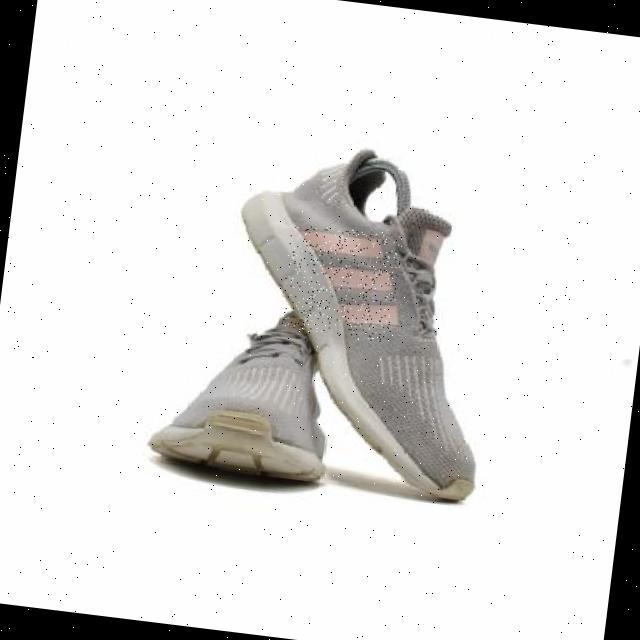Adidas: (279, 222, 403, 343)
